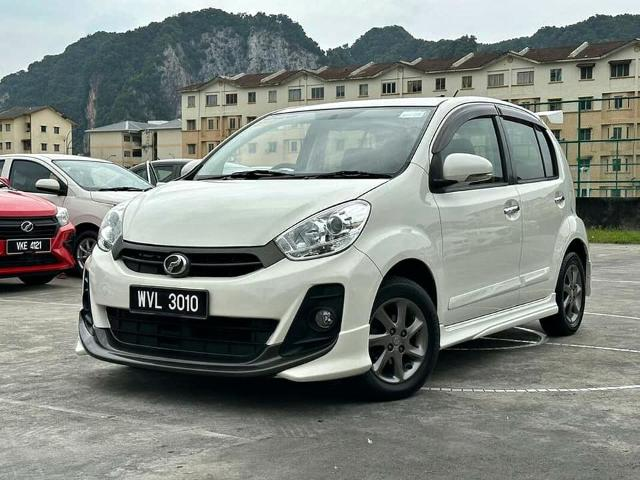License_Plate: (129, 283, 218, 317), (9, 239, 52, 254)
car: (76, 99, 594, 396)
